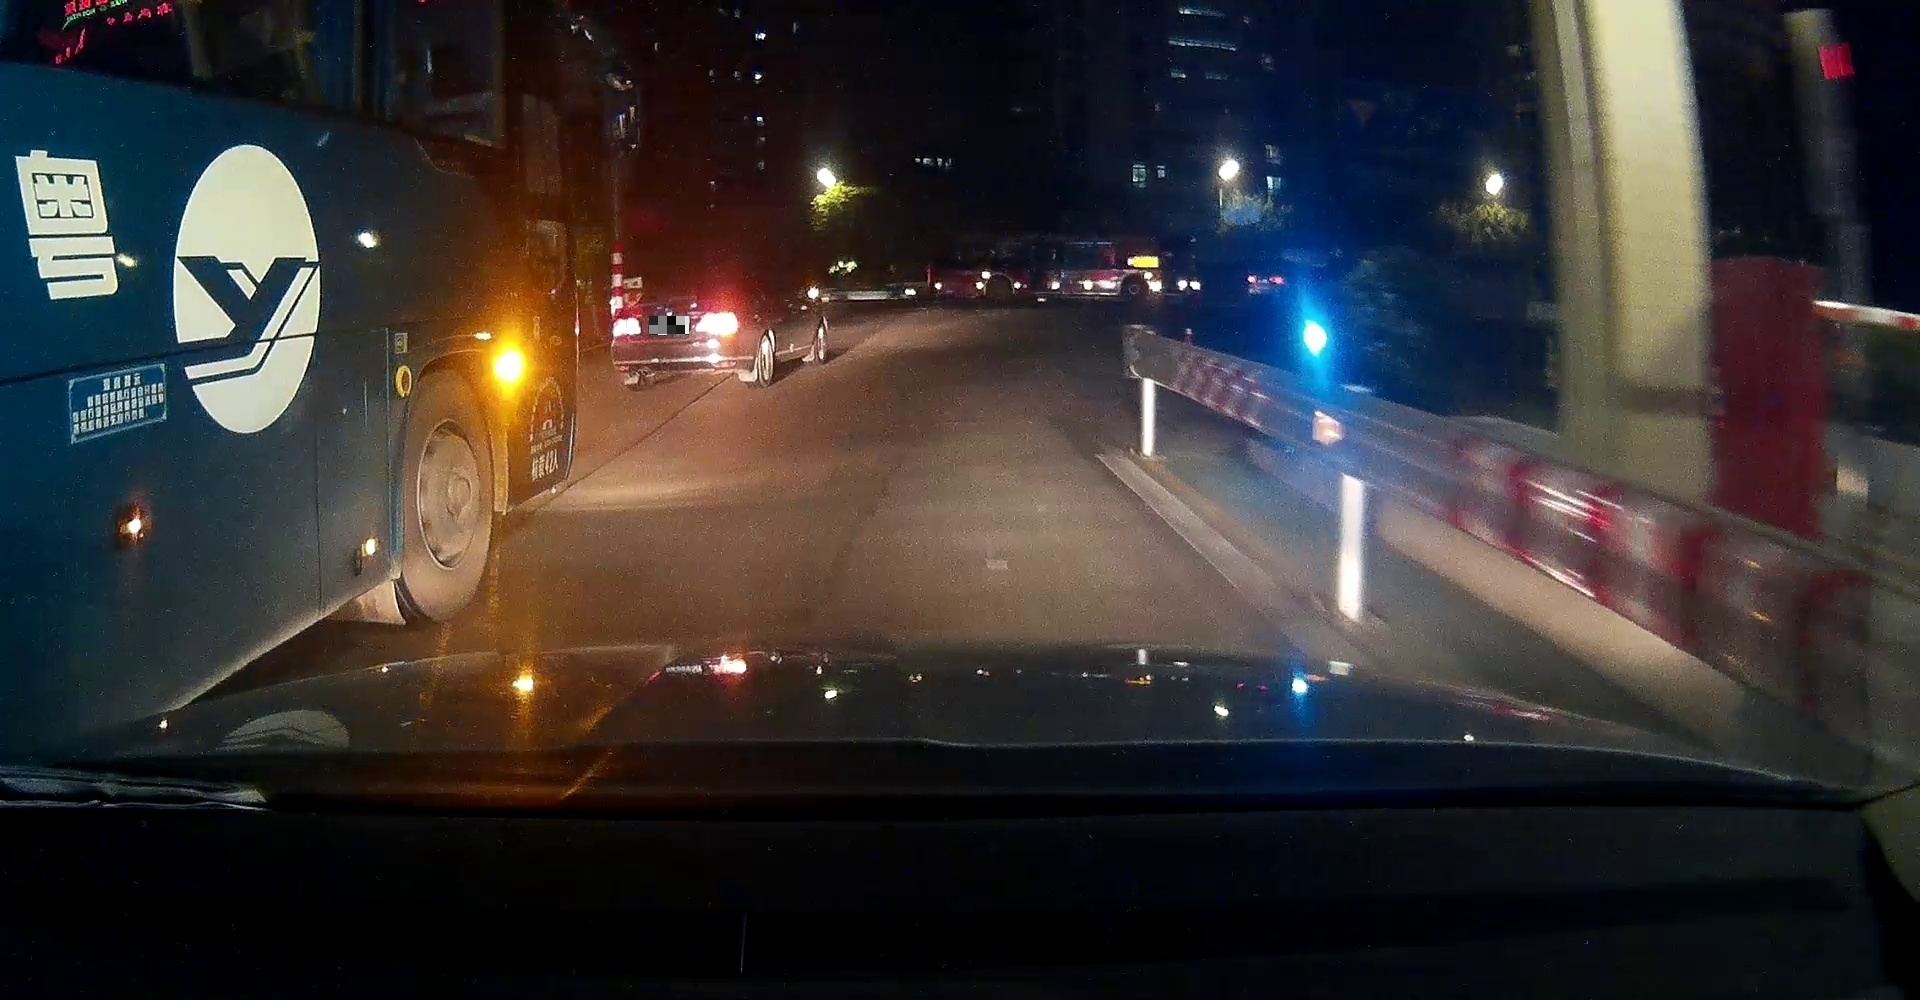L_light: (611, 319, 643, 338)
R_light: (695, 310, 739, 338)
T_light: (667, 294, 697, 299)
night-right: (610, 266, 742, 390)
plate_1: (649, 316, 690, 335)
